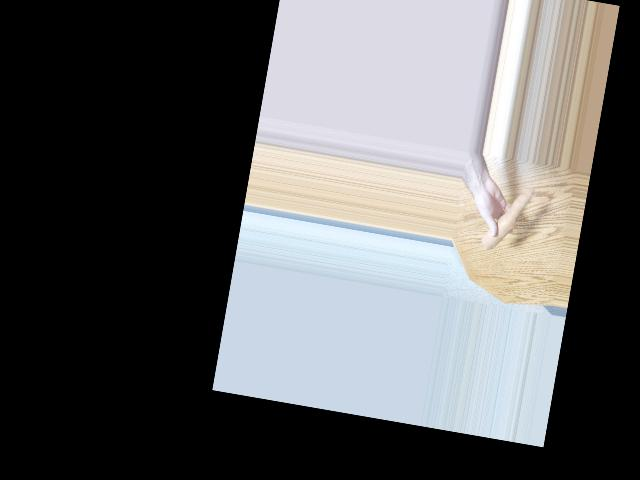sweet_potato: (481, 182, 529, 262)
